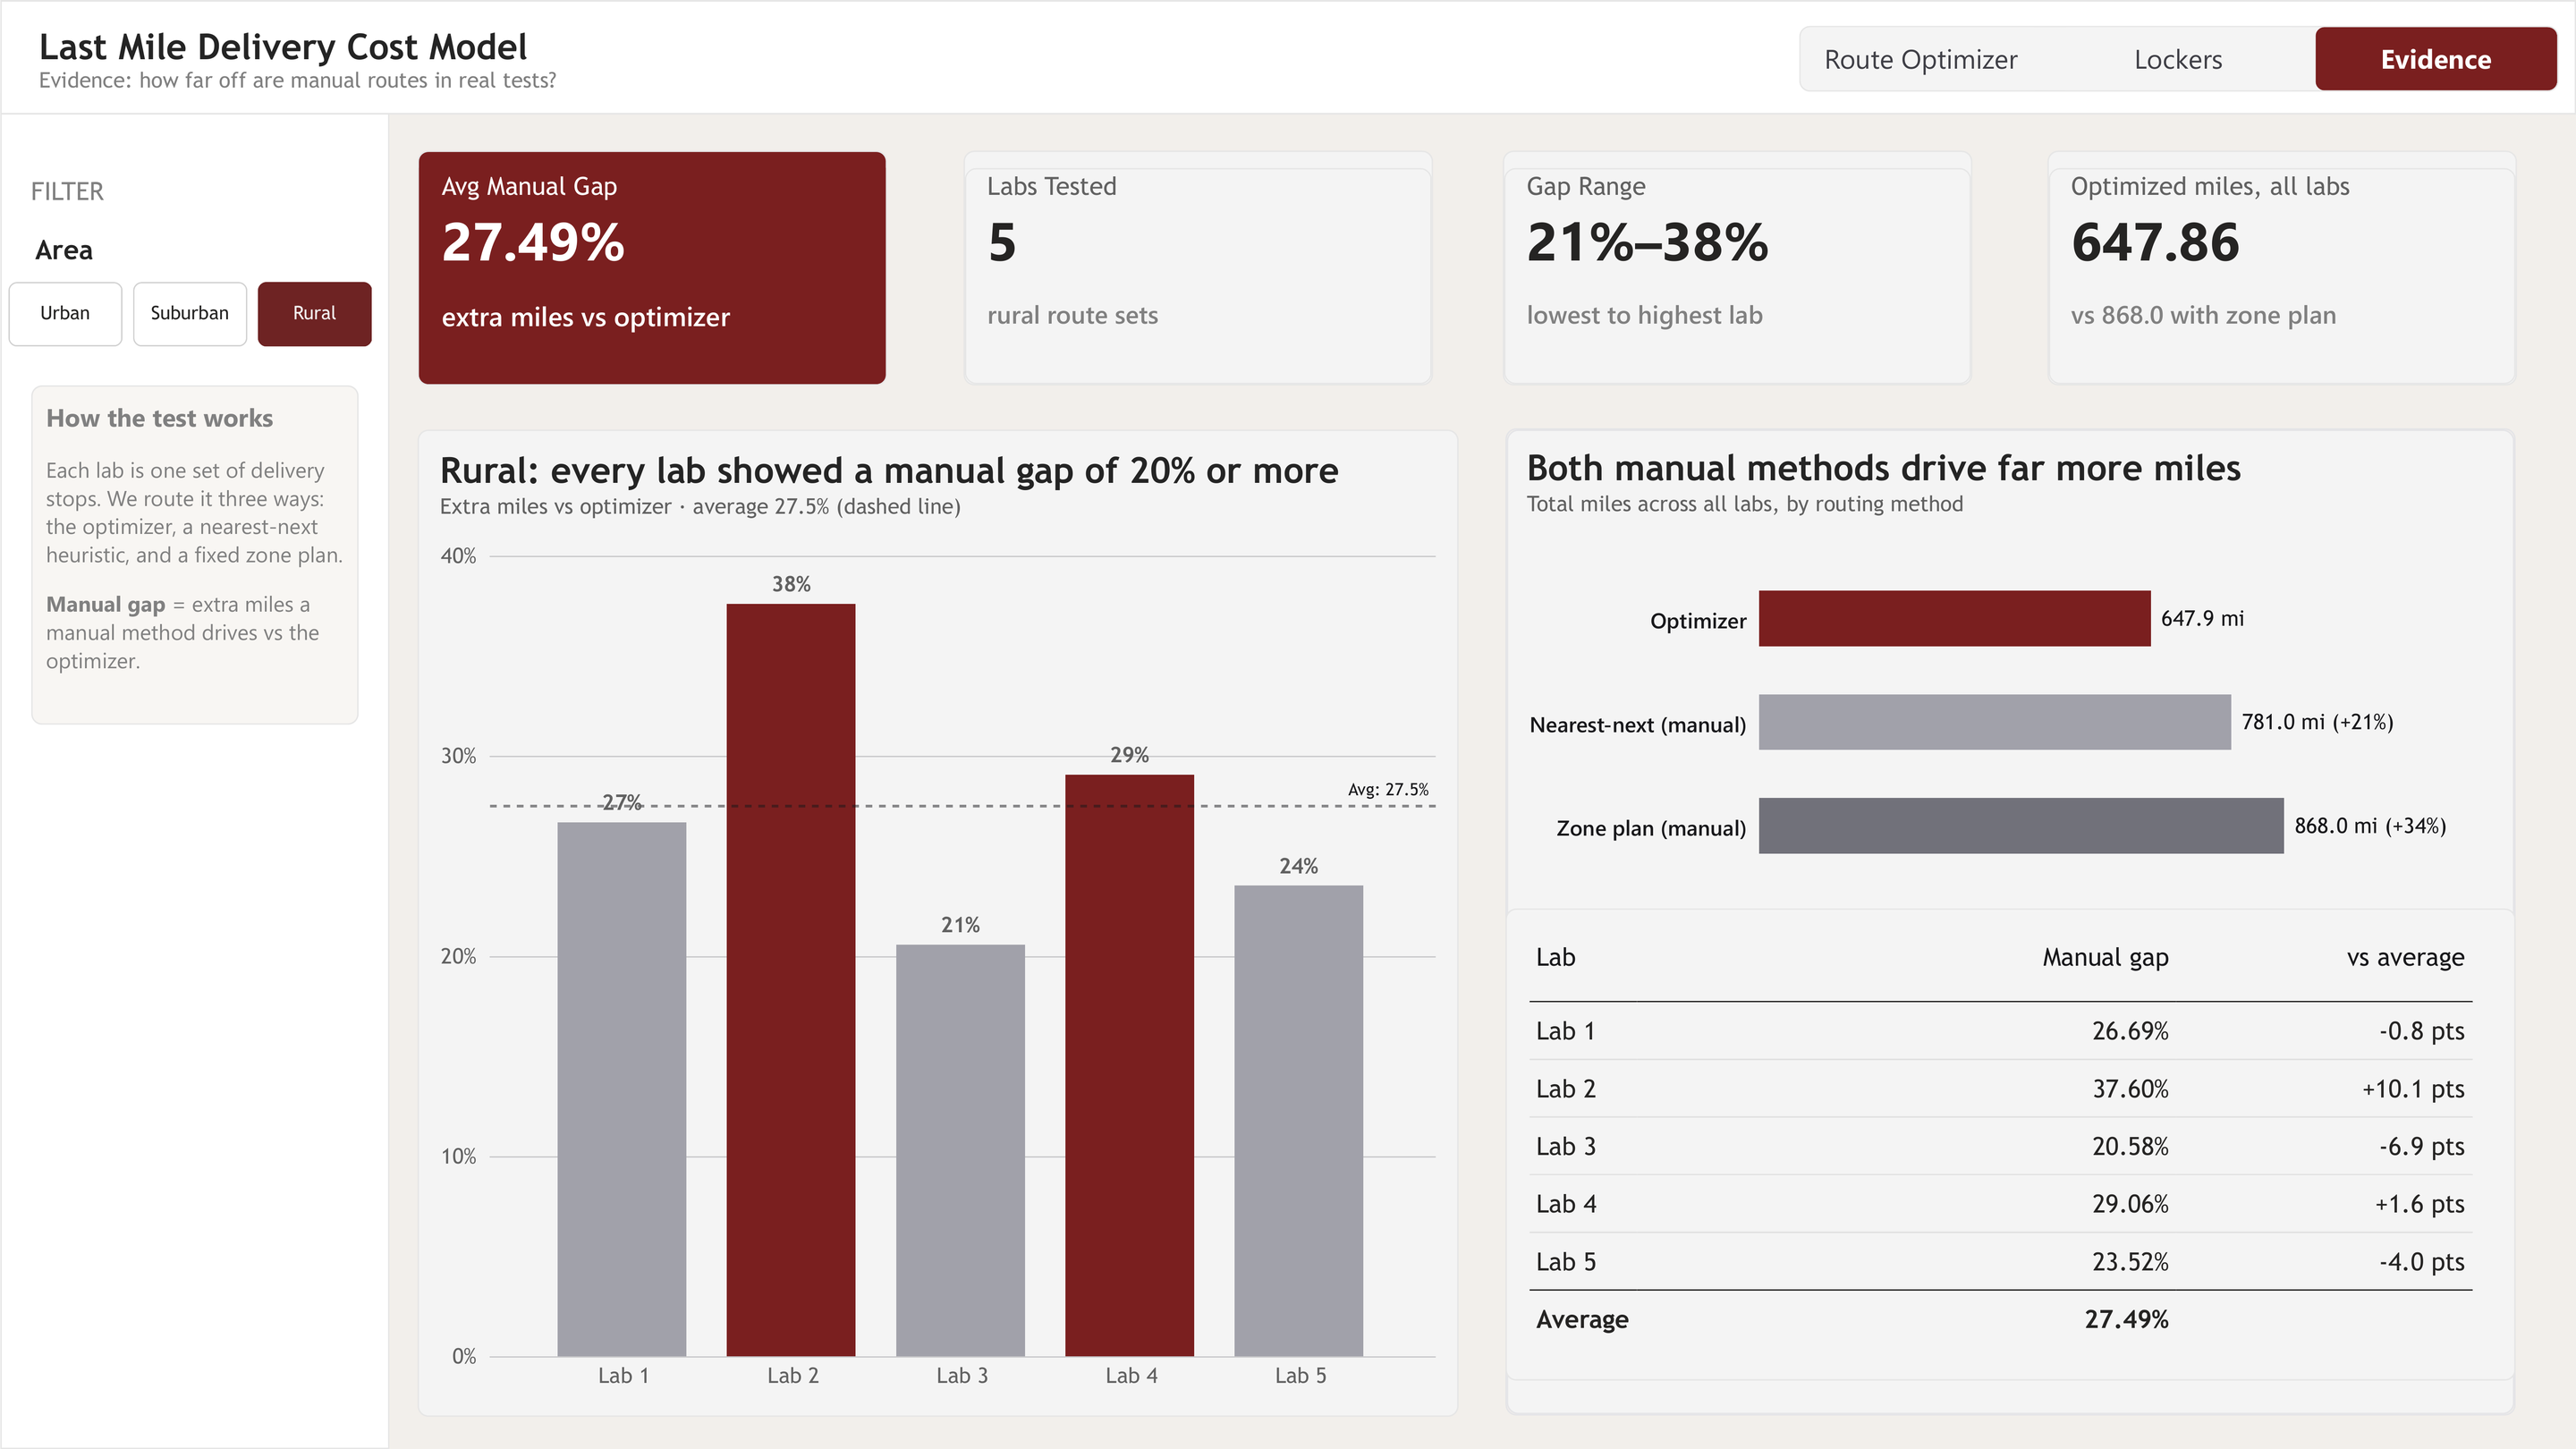

What the dashboard file says about the page in this screenshot:
{"tool":"powerbi","page":{"name":"Evidence","canvas":[1920,1080],"ordinal":2},"visuals":[{"type":"shape","box":[0,68.6,290.3,1011.1],"z":0},{"type":"shape","box":[0,0,1920,85.3],"z":1000},{"type":"clusteredColumnChart","fields":{"Category":["LabResults.Lab Label"],"Y":["_Measures.Avg Manual Gap"]},"box":[310.8,319.5,776.2,736.8],"z":2000},{"type":"advancedSlicerVisual","title":"Area","fields":{"Values":["AreaTypes.Area"]},"box":[5.8,170.7,272,86.9],"z":3000},{"type":"pageNavigator","box":[1341.3,19,565.4,49.3],"z":4000},{"type":"textbox","box":[29.4,19.1,776,66.3],"z":5000},{"type":"cardVisual","fields":{"Data":["Sum(LabResults.OptimizedMiles)"]},"box":[1526.1,112.3,350,175],"z":6000},{"type":"cardVisual","fields":{"Data":["_Measures.Avg Manual Gap"]},"box":[310.6,111.8,350,175.4],"z":7000},{"type":"cardVisual","fields":{"Data":["_Measures.Labs Tested"]},"box":[717.8,111.8,350,175],"z":8000},{"type":"cardVisual","fields":{"Data":["_Measures.Gap Range"]},"box":[1120.5,112.3,350,175],"z":9000},{"type":"textbox","box":[23.3,131.3,235,38.6],"z":10000},{"type":"textbox","box":[23.3,287.4,243.6,252.4],"z":11000},{"type":"shape","box":[1121.7,318.8,753.6,736.2],"z":12000},{"type":"clusteredBarChart","title":"Both manual methods drive far more miles","fields":{"Category":["Methods.Method"],"Y":["_Measures.Method Miles"]},"box":[1121.7,318.8,753.6,369.6],"z":13000},{"type":"tableEx","fields":{"Values":["LabResults.Lab Label","_Measures.Avg Manual Gap","_Measures.Gap vs Avg"]},"box":[1121.7,676.8,753.6,352.2],"z":14000}]}

Visuals, with their boxes in screenshot pixels (x1, y1, x2, y2), scaled from the page's 1920x1080 canvas onto the 2576x1449 screenshot:
shape: 0:92:389:1448
shape: 0:0:2575:114
clusteredColumnChart - LabResults.Lab Label x _Measures.Avg Manual Gap: 417:428:1458:1417
"Area" advancedSlicerVisual: 8:229:373:345
pageNavigator: 1800:25:2558:91
textbox: 39:26:1080:114
cardVisual - Sum(LabResults.OptimizedMiles): 2047:150:2517:386
cardVisual - _Measures.Avg Manual Gap: 417:150:886:386
cardVisual - _Measures.Labs Tested: 963:150:1433:385
cardVisual - _Measures.Gap Range: 1504:150:1973:386
textbox: 31:176:346:228
textbox: 31:386:358:724
shape: 1505:428:2516:1415
"Both manual methods drive far more miles" clusteredBarChart: 1505:428:2516:924
tableEx - LabResults.Lab Label x _Measures.Avg Manual Gap: 1505:908:2516:1381
